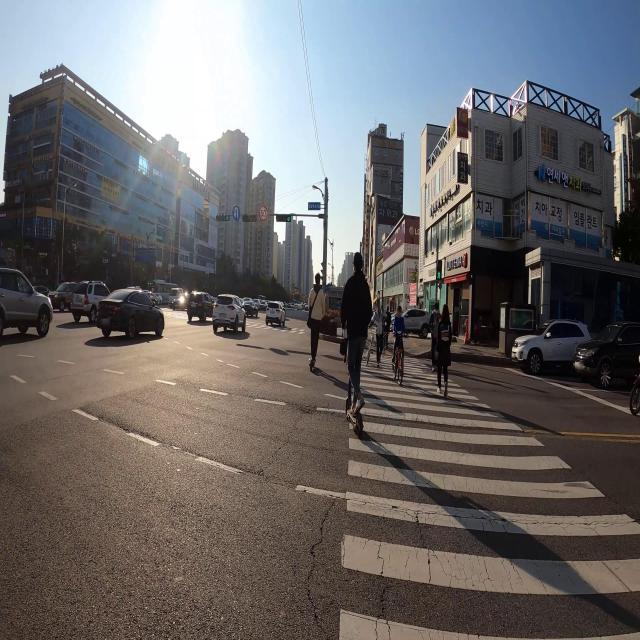crosswalk: (339, 340, 639, 639), (160, 309, 308, 337)
